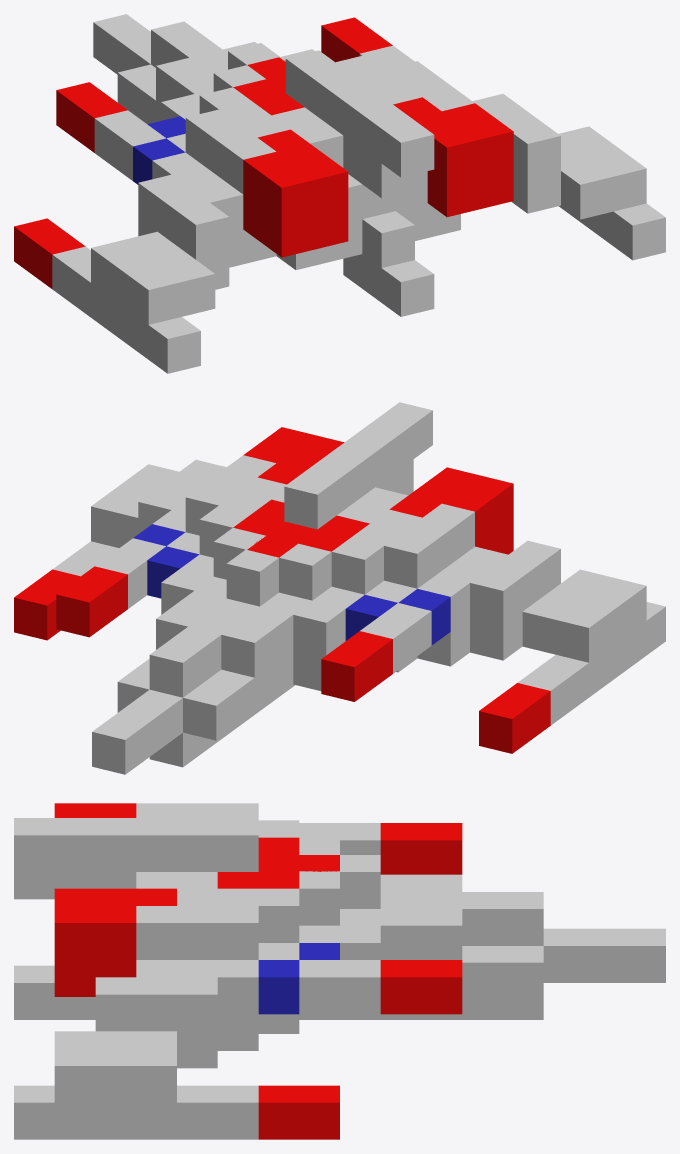
The model's file is Galaga3d.dae.
3 renders of one model, top to bottom at view 1: azimuth 30°, elevation 25°; view 2: azimuth 150°, elevation 25°; view 3: azimuth 270°, elevation 25°, orthographic. The views are drawn at different scales.
Visible parts, largest first — view 1: SketchUp (×9); view 2: SketchUp (×12); view 3: SketchUp (×10).
Boxes of the visible parts, bbox=[...] form: SketchUp (×9): bbox=[14, 14, 665, 373]; SketchUp (×12): bbox=[14, 402, 665, 774]; SketchUp (×10): bbox=[14, 803, 665, 1139].
Size of the model in its own units: 121 by 130 by 40.58.
